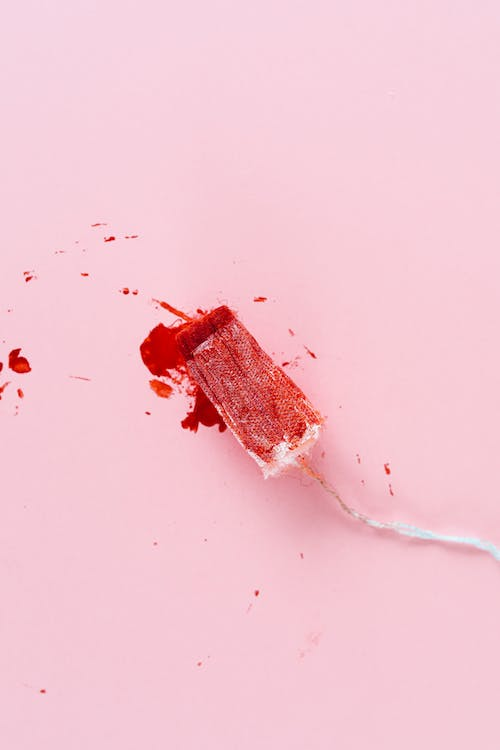blood: (0, 219, 398, 696), (172, 302, 323, 481)
